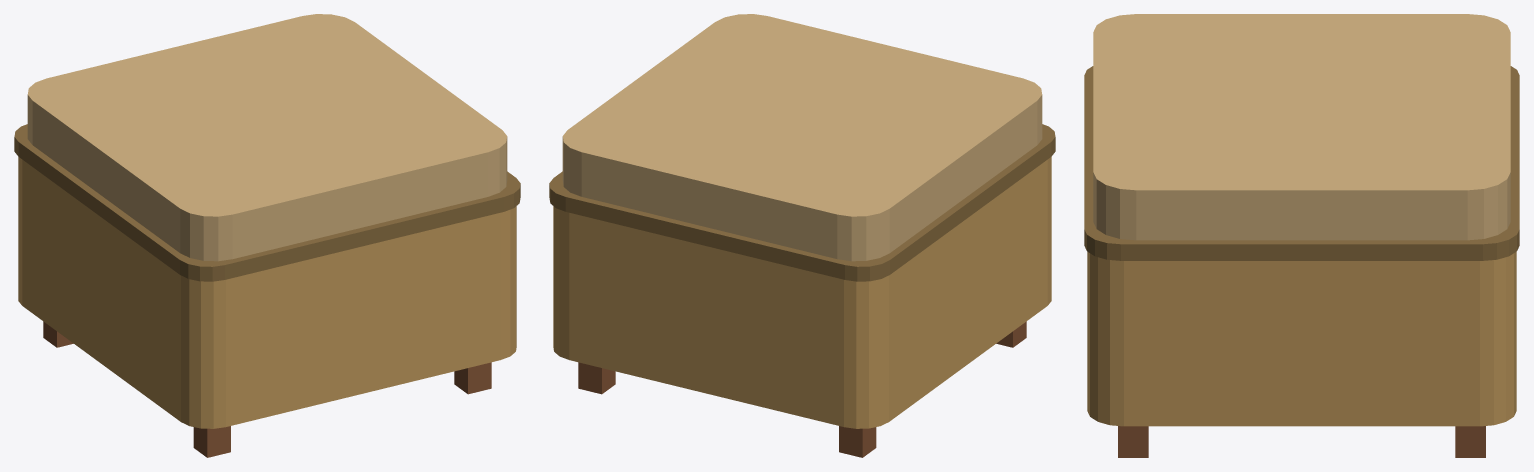
Rendered from ottoman.glb.
The picture shows the model from 3 angles, left to right: view 1: azimuth 30°, elevation 25°; view 2: azimuth 150°, elevation 25°; view 3: azimuth 270°, elevation 25°; orthographic projection. The views are drawn at different scales.
Parts seen in each view (by area): view 1: ottoman_Body; view 2: ottoman_Body; view 3: ottoman_Body.
Boxes of the visible parts, x1,y1,x2,y2 form: ottoman_Body: (14, 14, 520, 457); ottoman_Body: (549, 14, 1055, 457); ottoman_Body: (1084, 14, 1519, 457).
Bounding box in the file's own units: 0.71 × 0.5 × 0.71.
